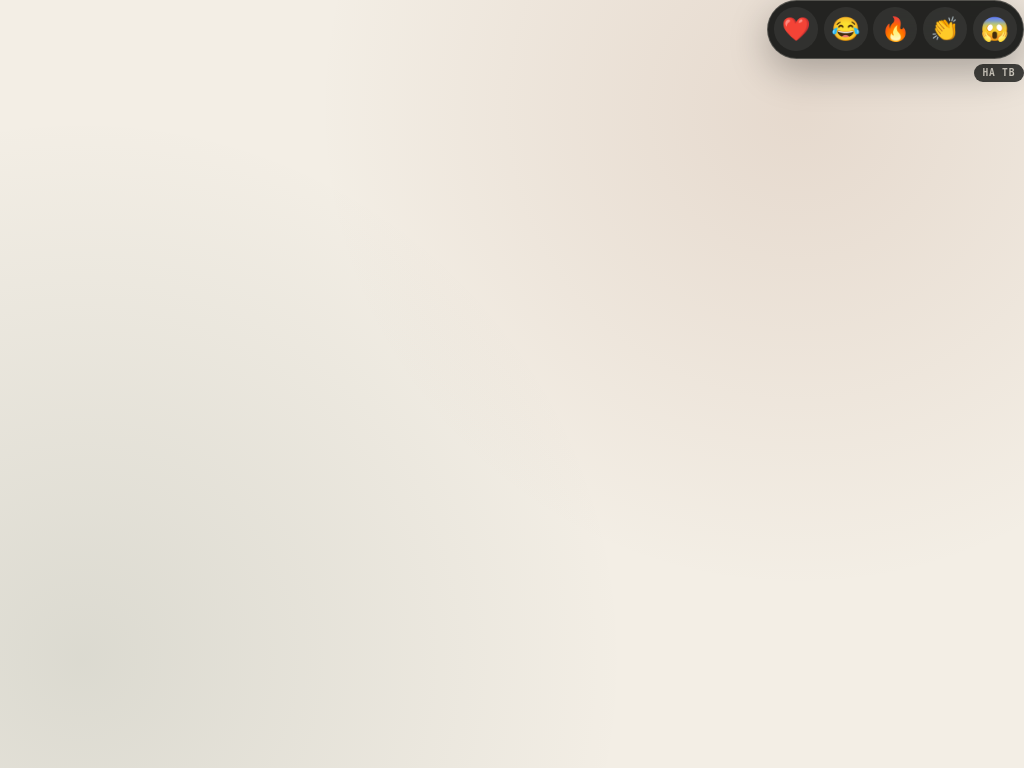
GuestReactionDock › keeps controls disabled while the server cooldown is active
Step 1. Click the button named "Реакция ❤️" → (796, 29), box [774, 7, 818, 51]
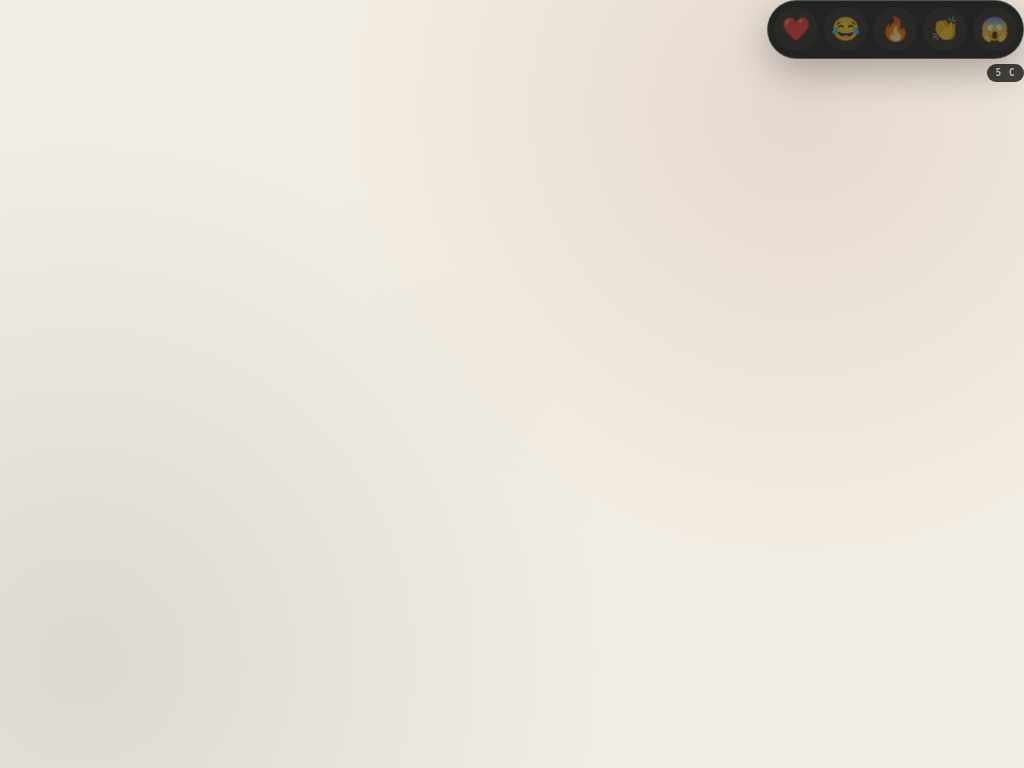
Expected: the button named "Реакция 😂" is disabled, [824, 7, 868, 51]
